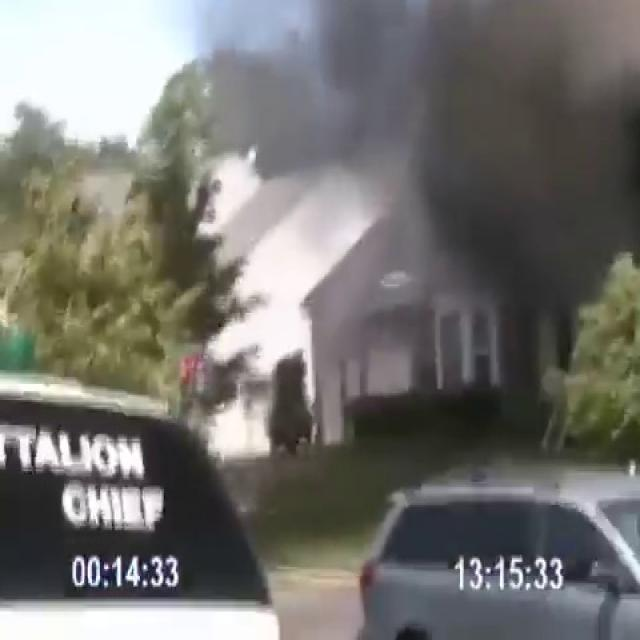Smoke: (329, 0, 639, 357)
